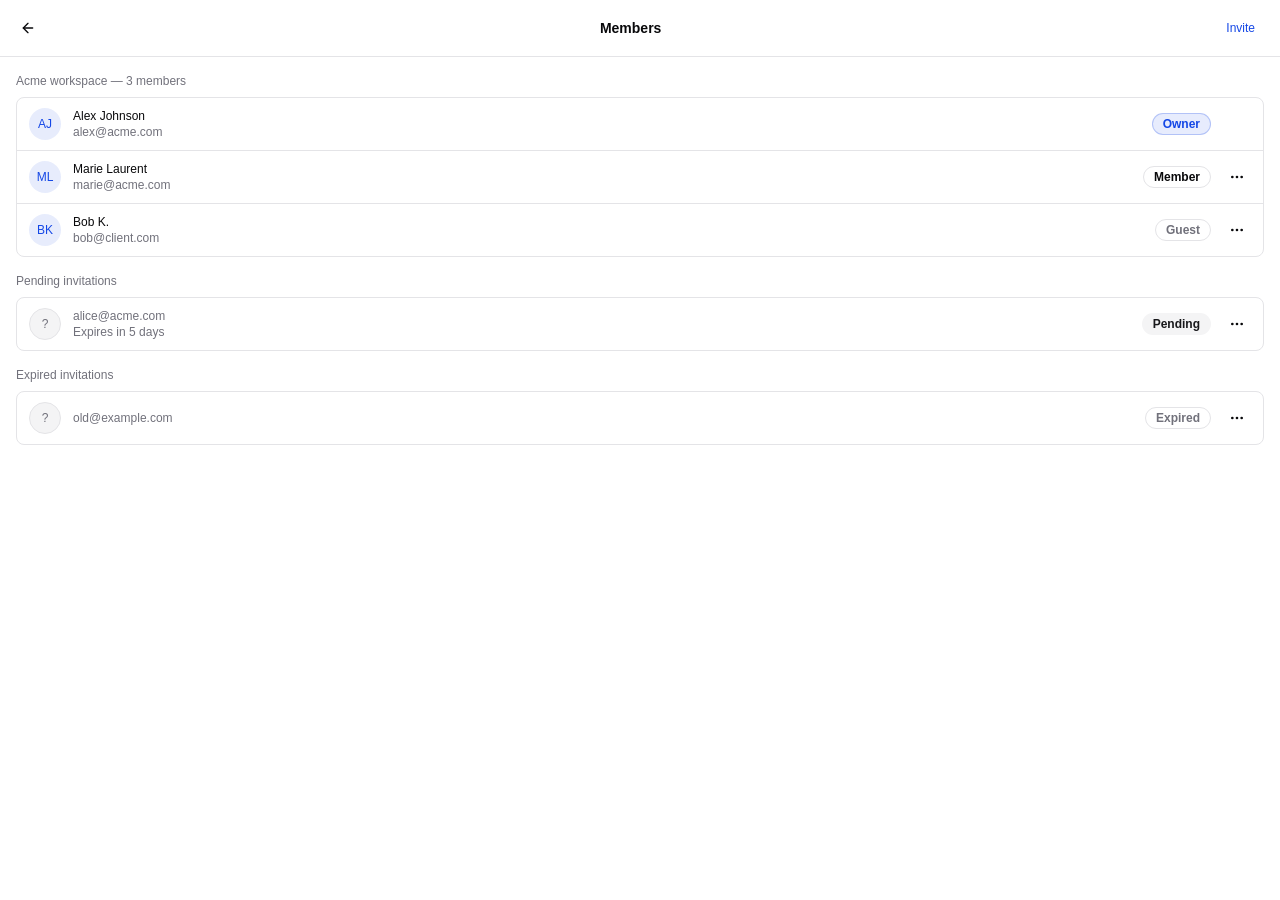
MobileMembersView — remove member › opens remove dialog with correct copy when ⋯ > Remove is clicked
Click the button named "member actions" in the row of "marie@acme.com" at (1237, 177), box [1223,163,1251,191]
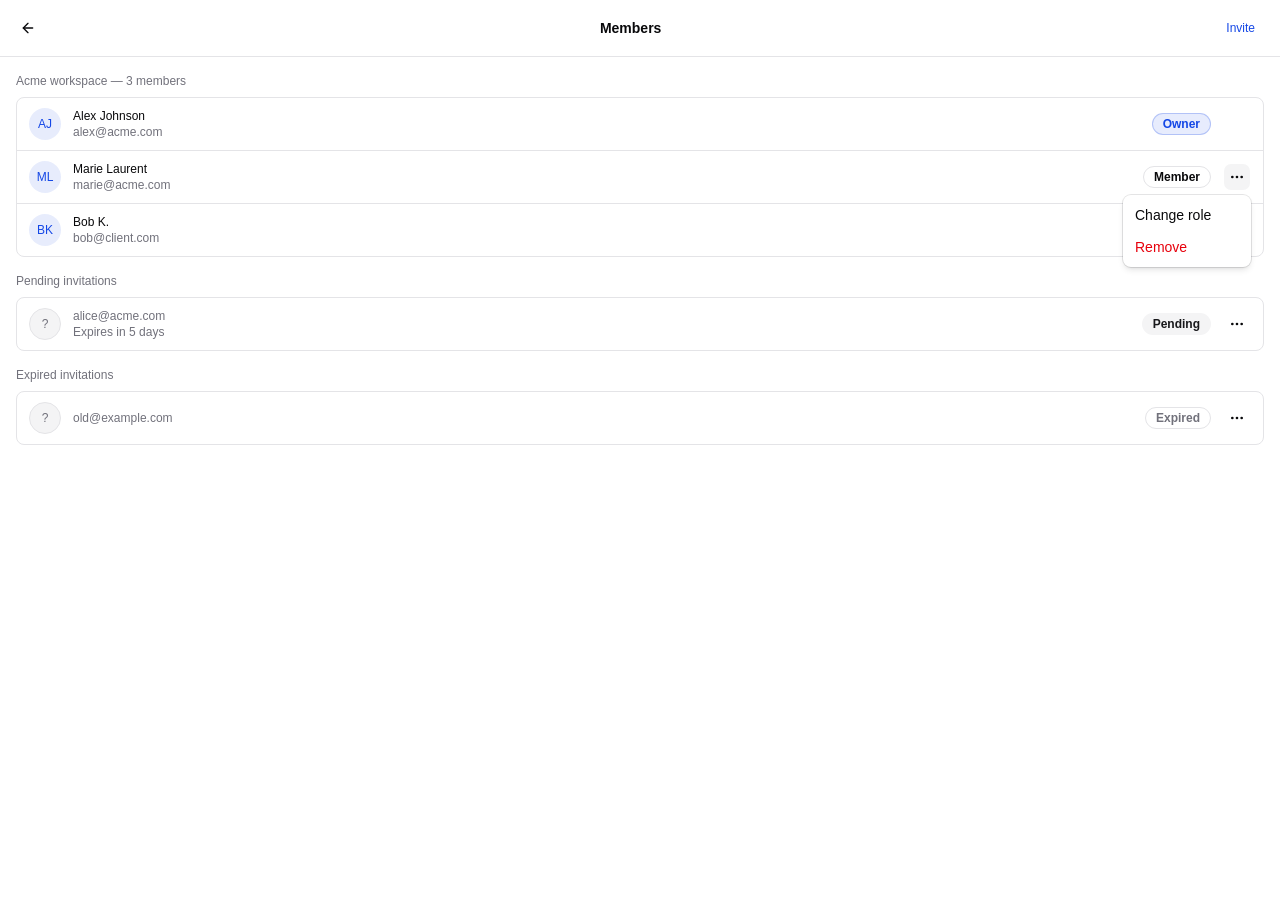
Click the menu item "Remove" at (1161, 247), box [1135,239,1187,255]
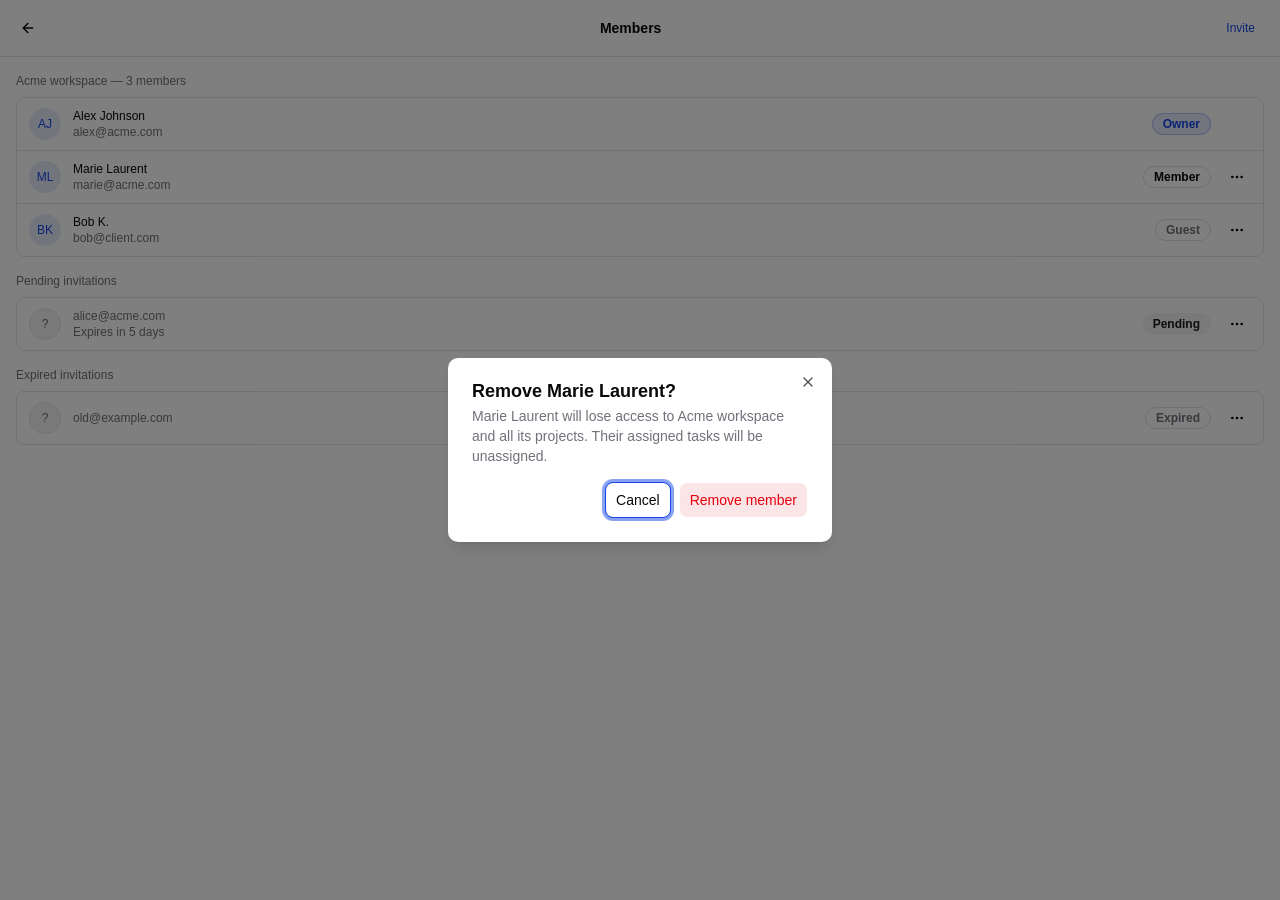
Check: the text "Marie Laurent" is shown, box [73,162,147,176]
Check: the dialog is shown, box [448,358,832,542]
